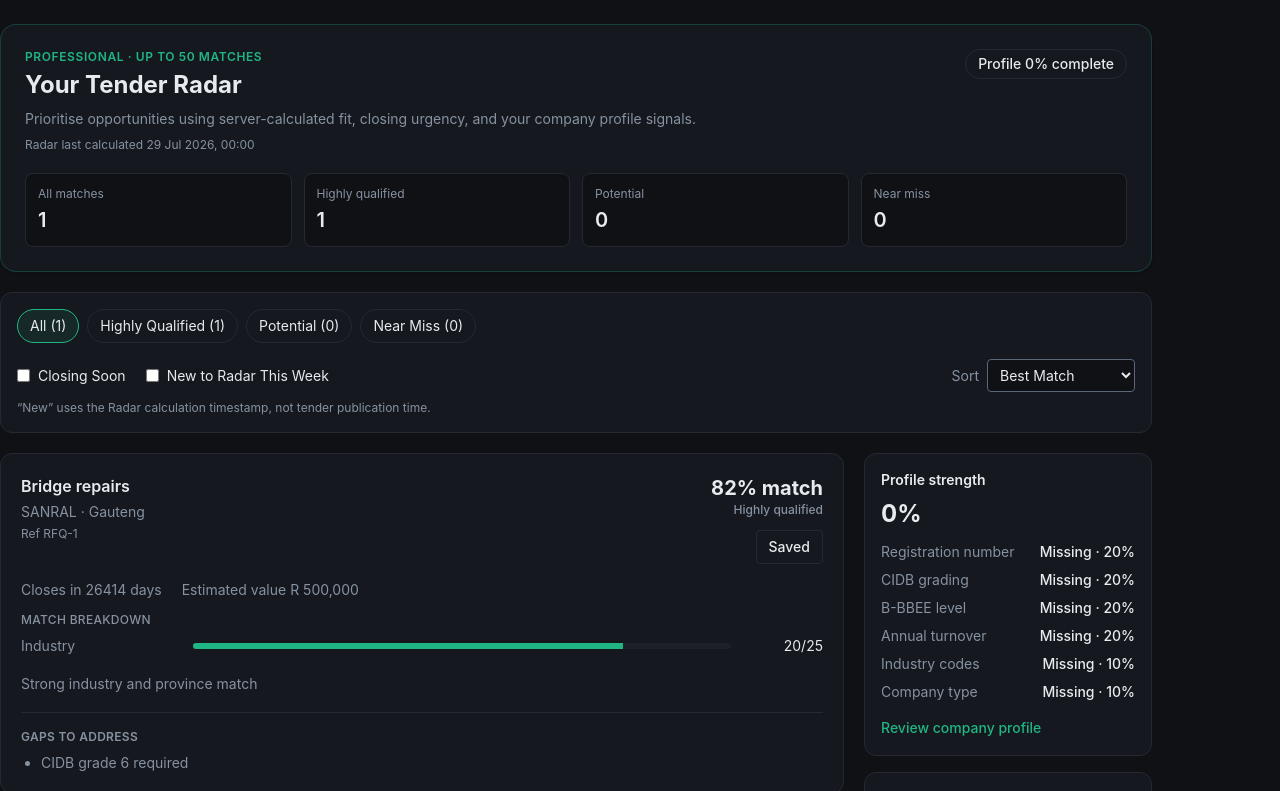
Scenario: Tender Radar screen › applies a paid server scenario temporarily and restores the previous sort
Select "Highest Value" in the dropdown named "sort matches". click: coordinates (1061, 376)
box: [987,359,1135,392]
(page scrolled)
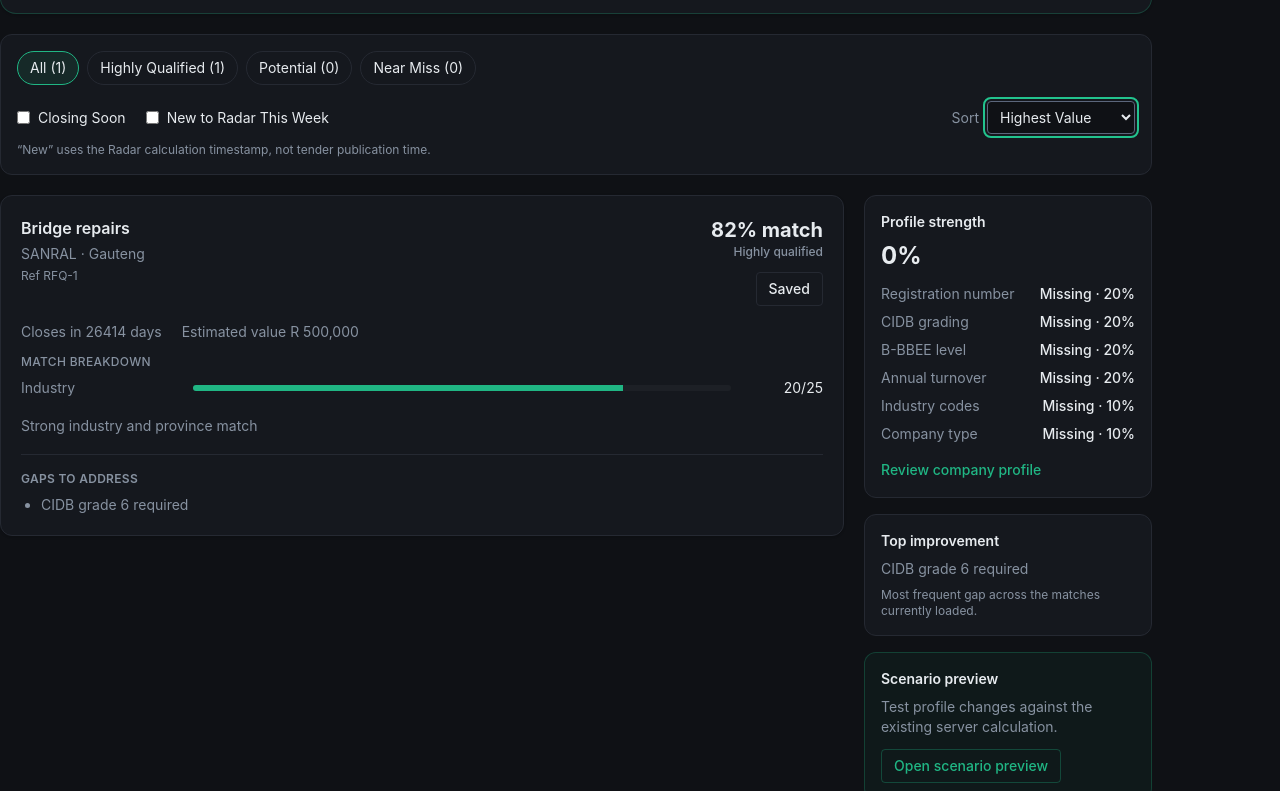
Click the button "Open scenario preview". click: coordinates (971, 766)
box: [881,749,1061,783]
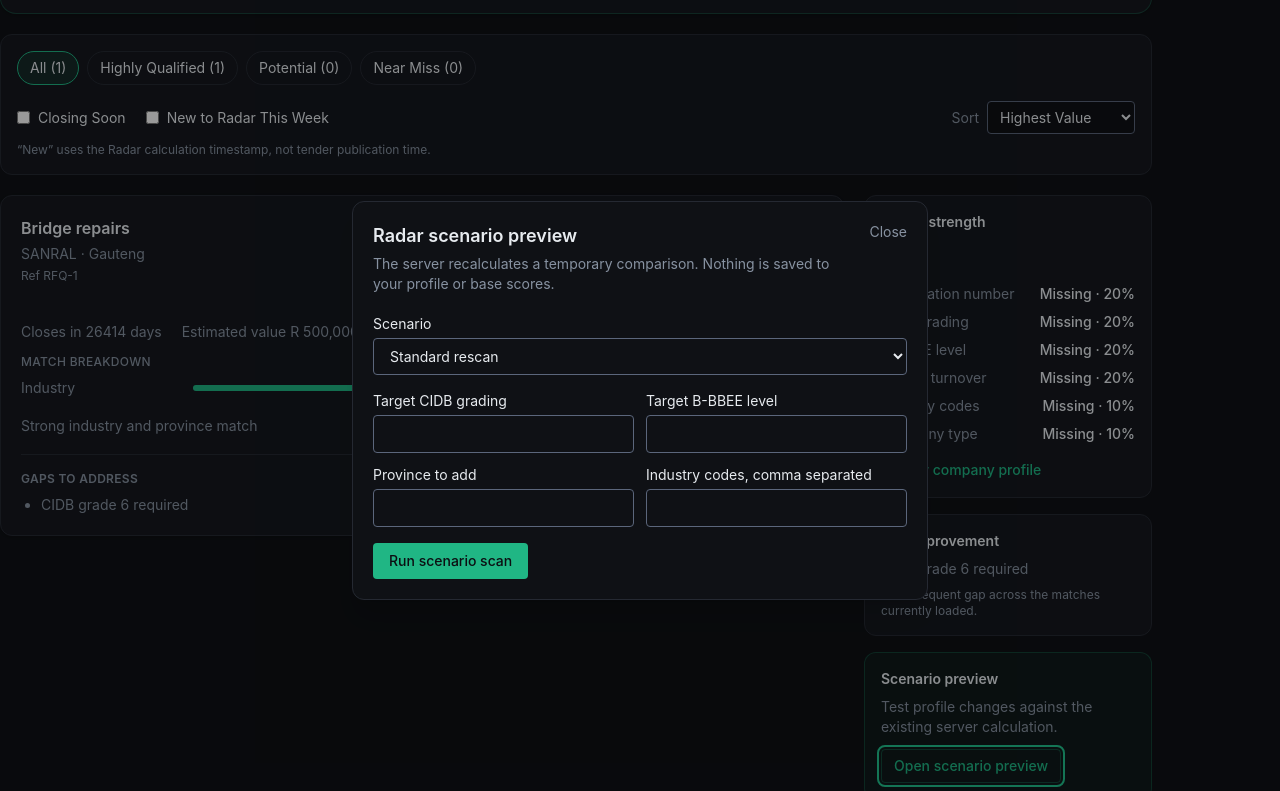
Click the button "Run scenario scan". click: coordinates (451, 560)
box: [373,542,528,578]
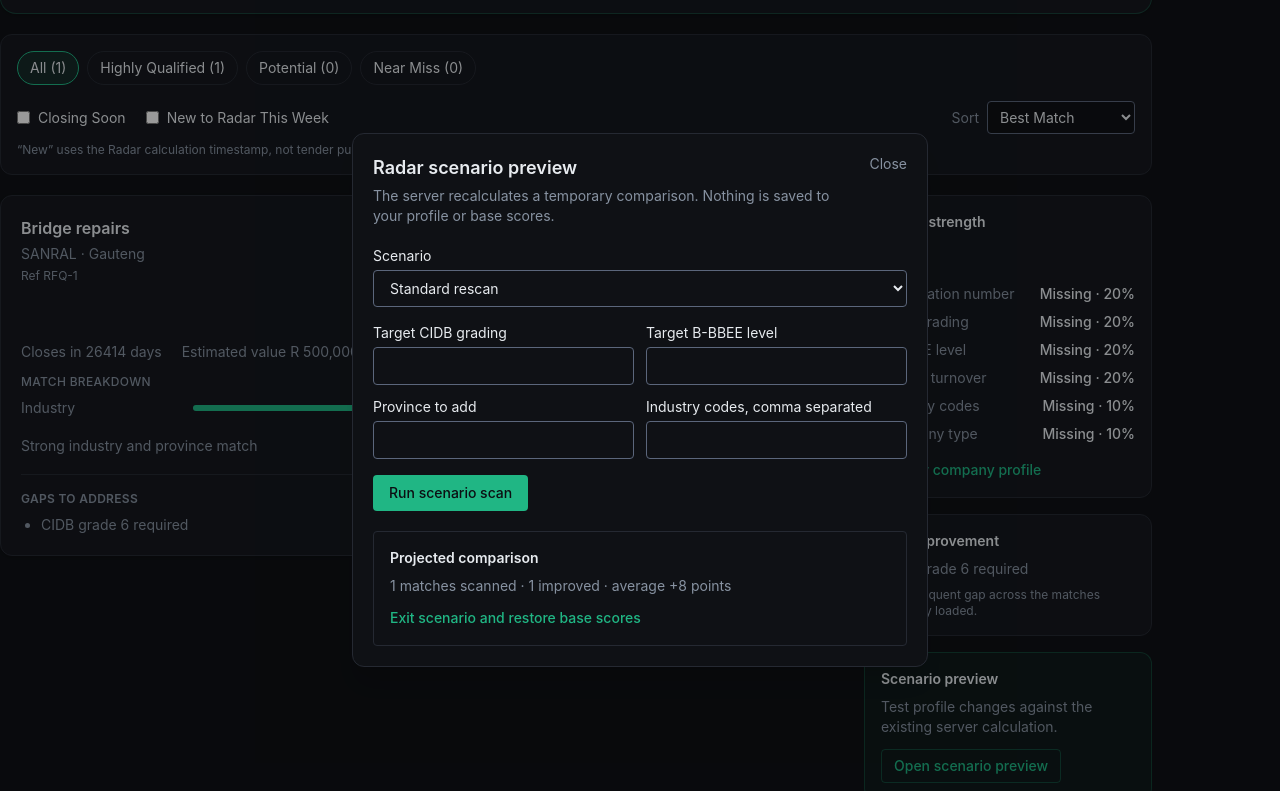
Expected: the text "Projected +8 points" is shown, [710,264,823,280]
Click the button "Exit scenario and restore base scores". click: coordinates (515, 618)
box: [390,608,641,628]
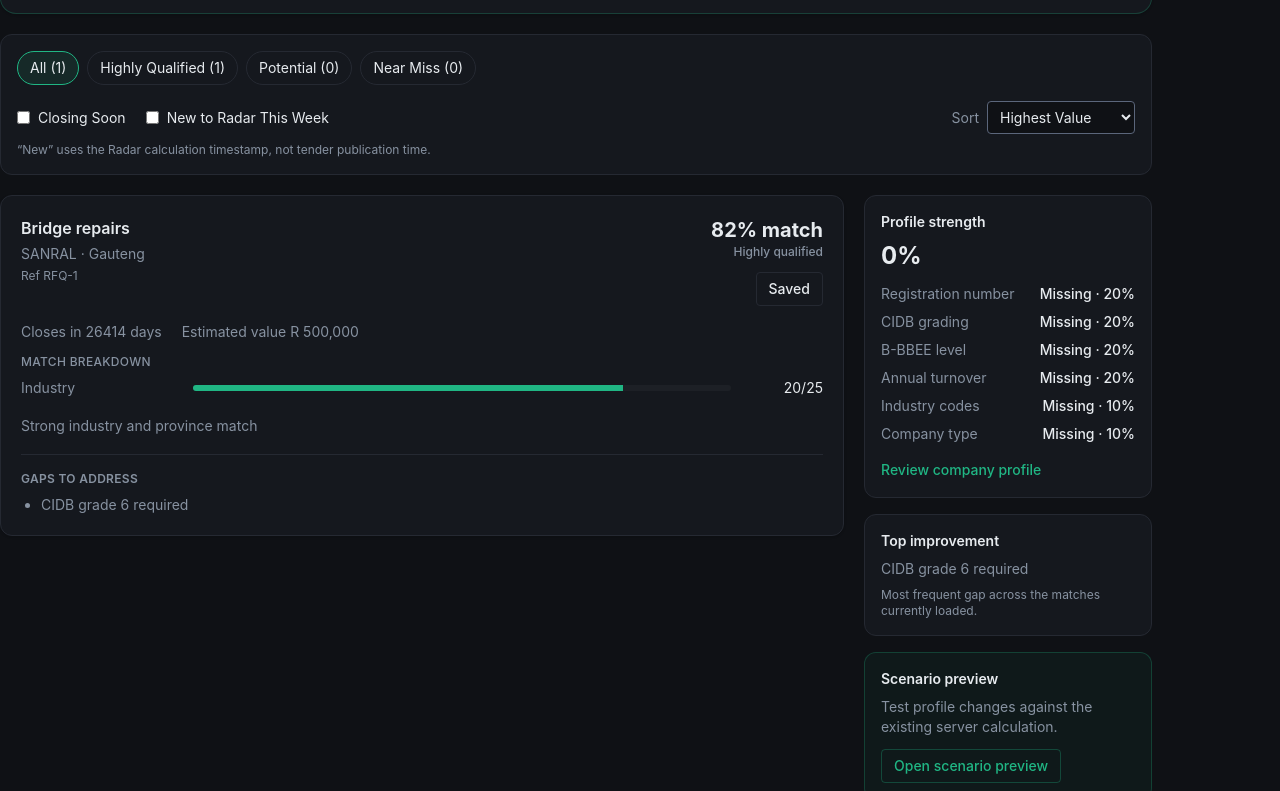
Expected: the text "82% match" is shown, [711,216,823,244]
